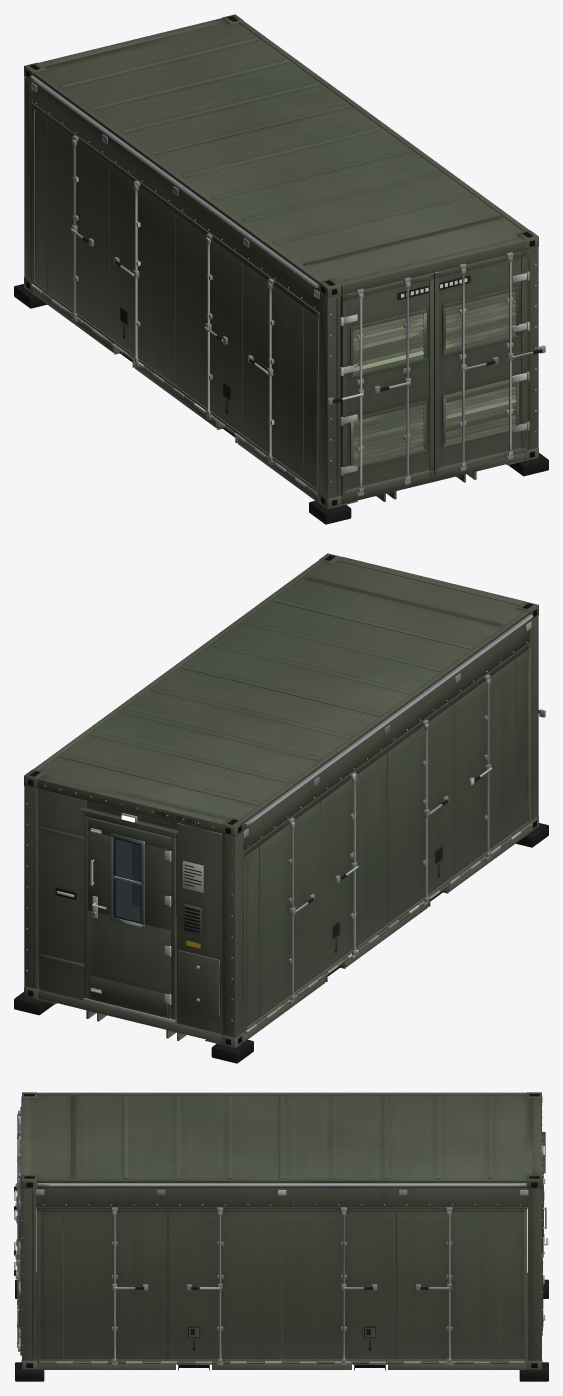
Rendered from ehmecc-stowed.glb.
The picture shows the model from 3 angles, top to bottom: view 1: azimuth 30°, elevation 25°; view 2: azimuth 150°, elevation 25°; view 3: azimuth 270°, elevation 25°; orthographic projection. The views are drawn at different scales.
Visible parts, largest first — view 1: EHMECC_core, EHMECC_side_wall_L; view 2: EHMECC_core, EHMECC_side_wall_L, EHMECC_side_wall_R; view 3: EHMECC_side_wall_R, EHMECC_core.
Part boxes in pixels (x1,y1,x2,y2): EHMECC_core: (14, 14, 548, 524); EHMECC_side_wall_L: (31, 105, 319, 494); EHMECC_core: (14, 553, 548, 1063); EHMECC_side_wall_L: (243, 644, 531, 1033); EHMECC_side_wall_R: (116, 839, 139, 917); EHMECC_side_wall_R: (36, 1207, 527, 1365); EHMECC_core: (14, 1092, 548, 1381).
Size of the model in its own units: 2.61 by 2.56 by 6.23.
17 materials, 5 textured.
